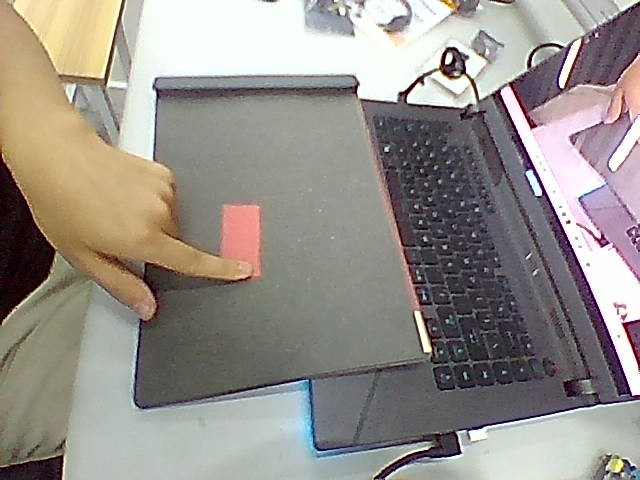card: (220, 204, 259, 277)
